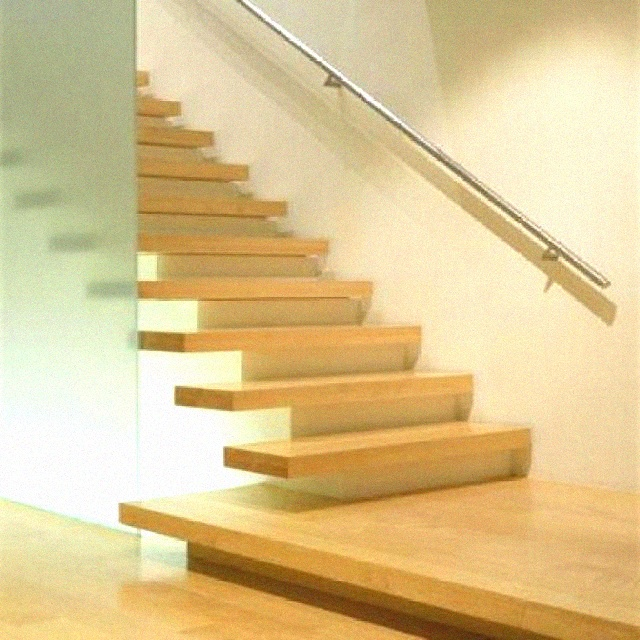stair: (87, 16, 584, 553)
